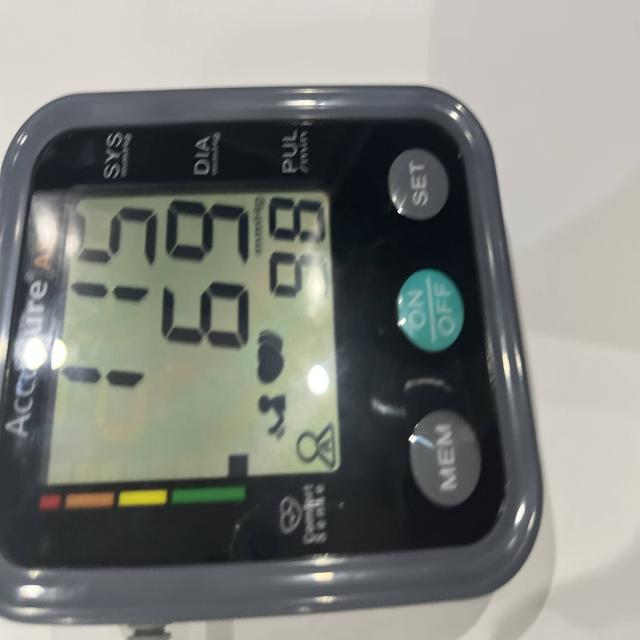bp: (0, 84, 548, 640)
